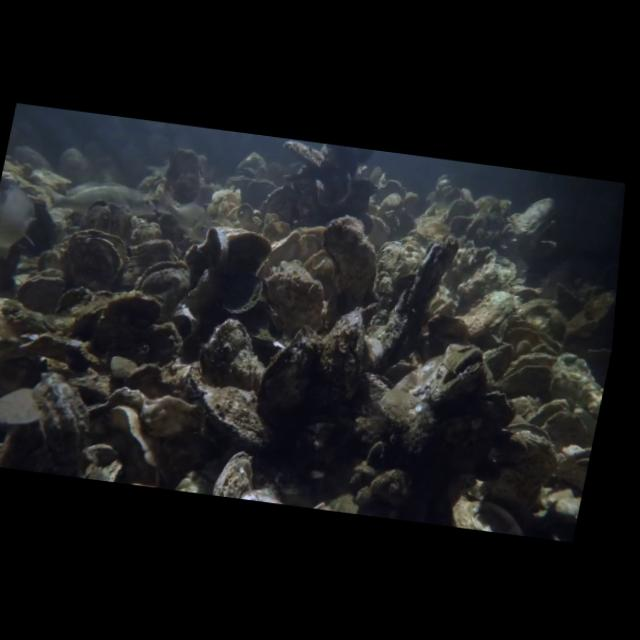Oyster-Closed: (376, 235, 460, 359), (183, 370, 273, 449), (319, 213, 378, 308), (320, 306, 369, 403)
Oyster-Indeterminate: (255, 325, 319, 421), (199, 315, 267, 392), (261, 256, 325, 333), (110, 403, 166, 479)
Oyster-Open: (62, 227, 132, 290), (423, 346, 490, 402), (131, 256, 192, 299), (495, 351, 556, 386), (527, 401, 574, 430), (437, 197, 476, 229), (503, 317, 539, 342), (536, 329, 565, 355)
